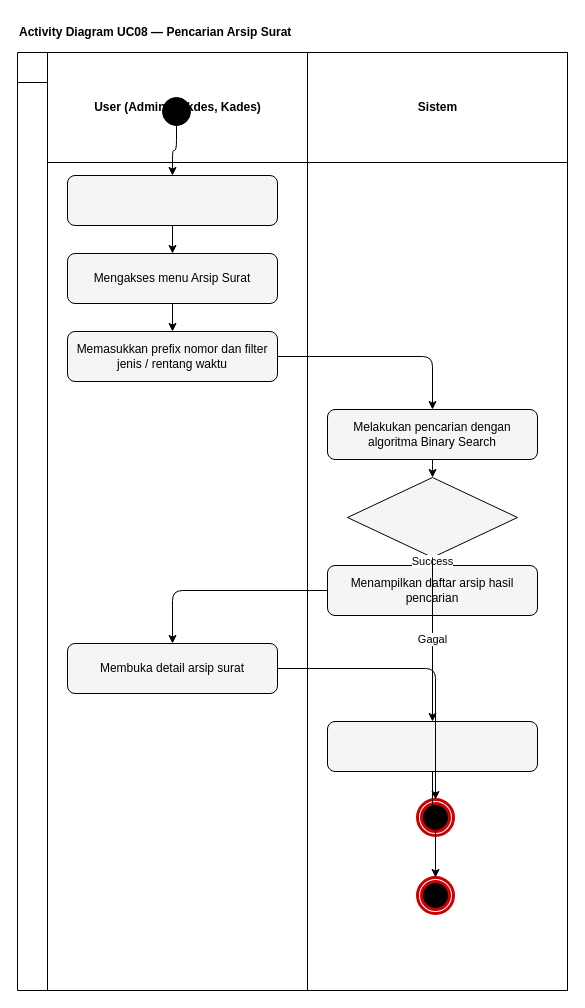
Some shapes in this 585 by 1008 pixel diagram are drawn without their labels. The shapes that lost their labels are listed below. From the top down, each one's box as (x1, y1, x2, y2) in pixels, then its label:
(66, 174, 278, 226): Berhasil login
(346, 476, 518, 558): Data ditemukan?
(326, 720, 538, 772): Menampilkan daftar kosong / tidak ditemukan
